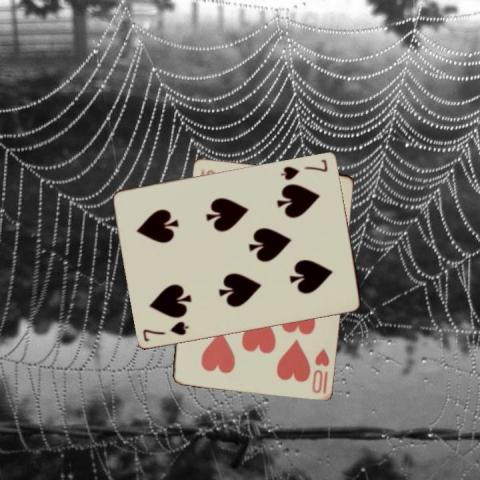10h: (308, 345, 330, 395)
7s: (278, 156, 330, 181), (140, 318, 191, 343)
